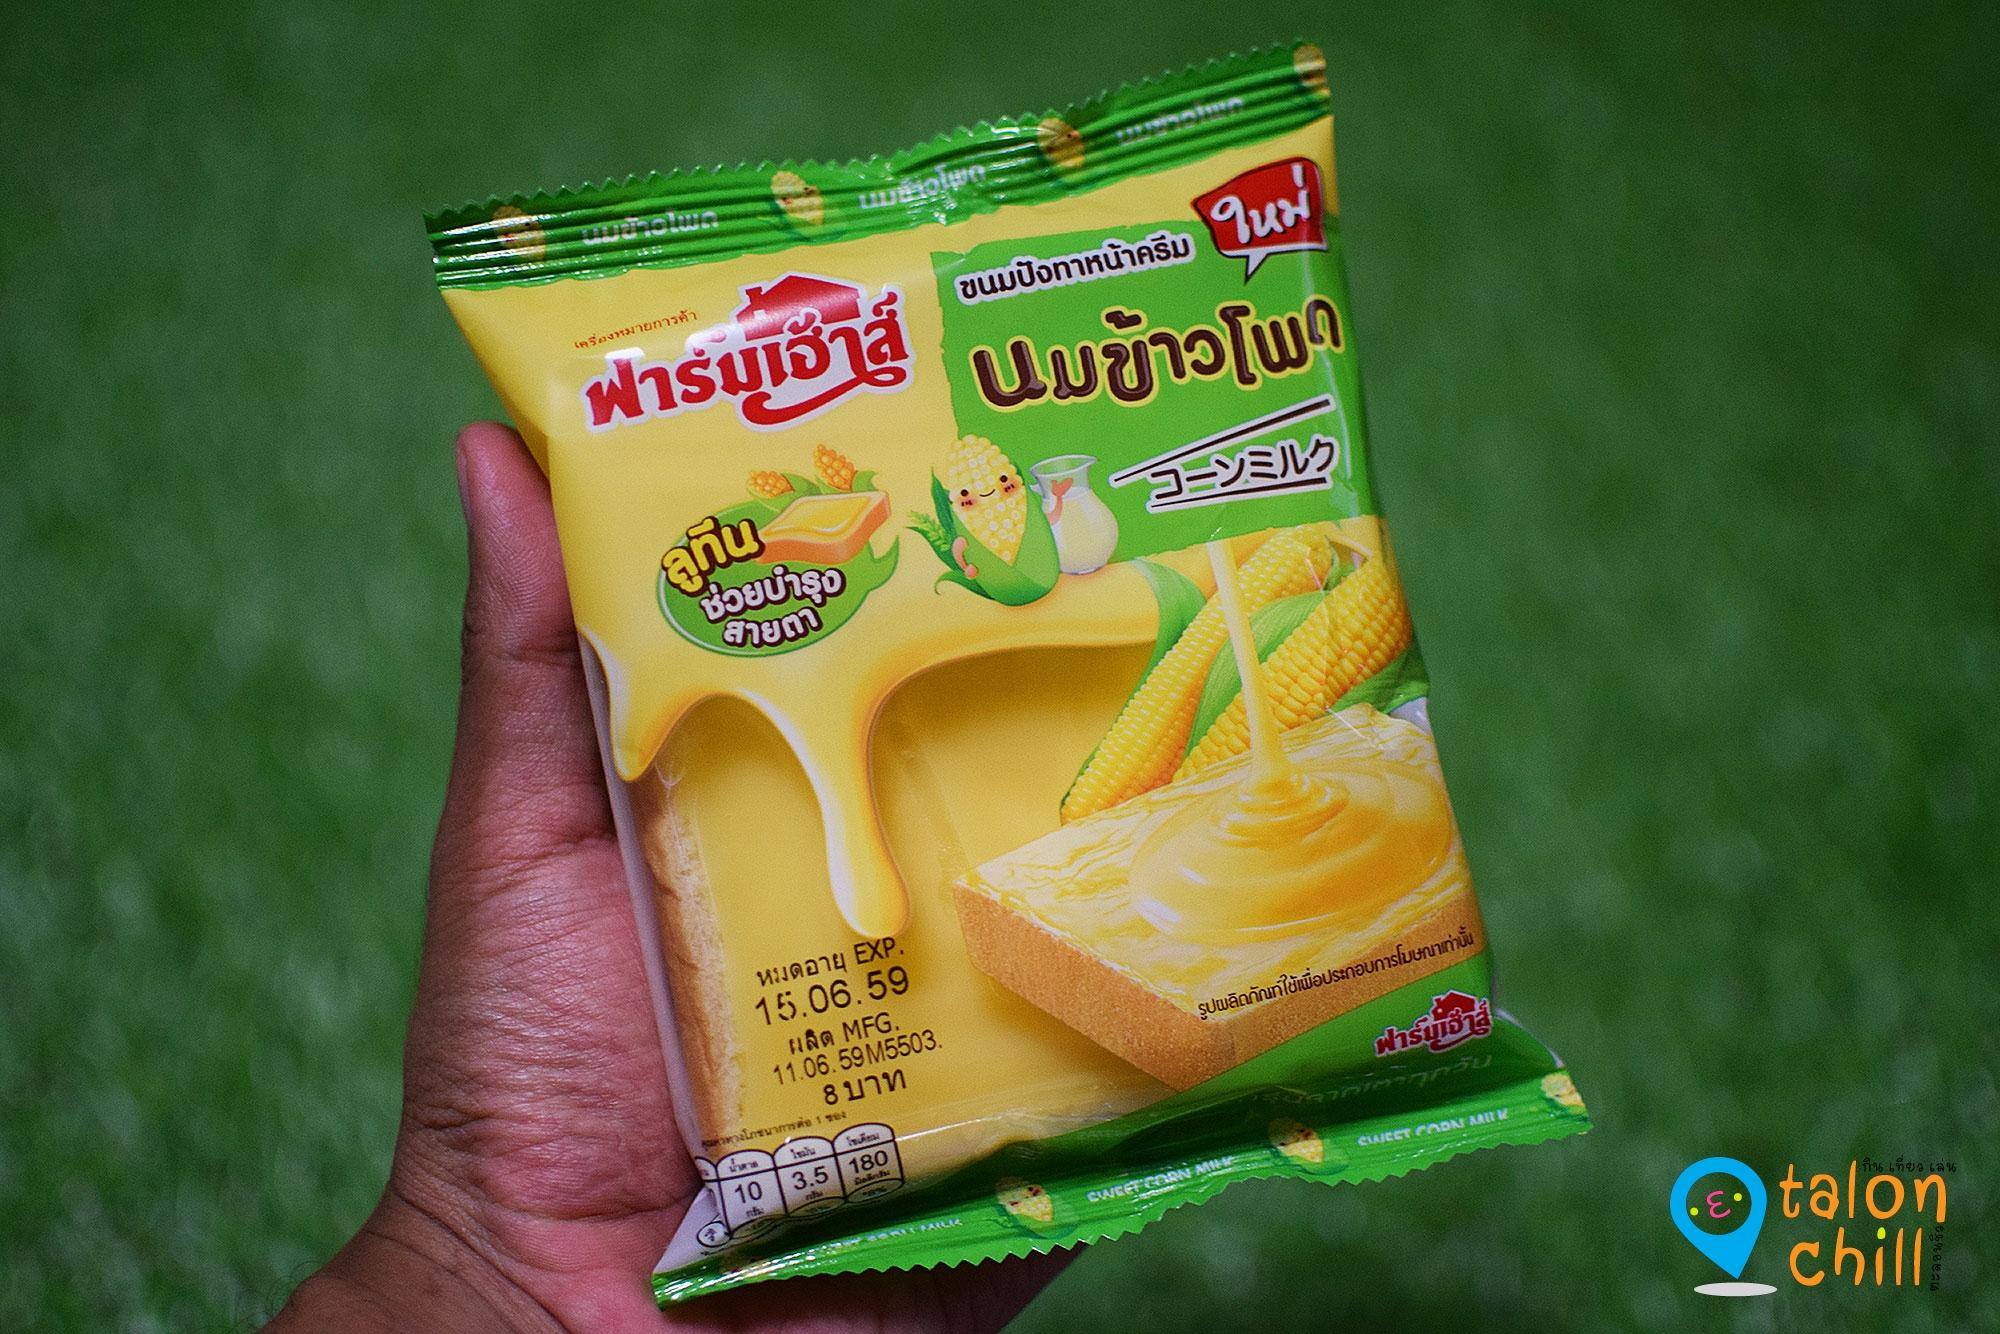plastic: (387, 30, 1600, 1310)
